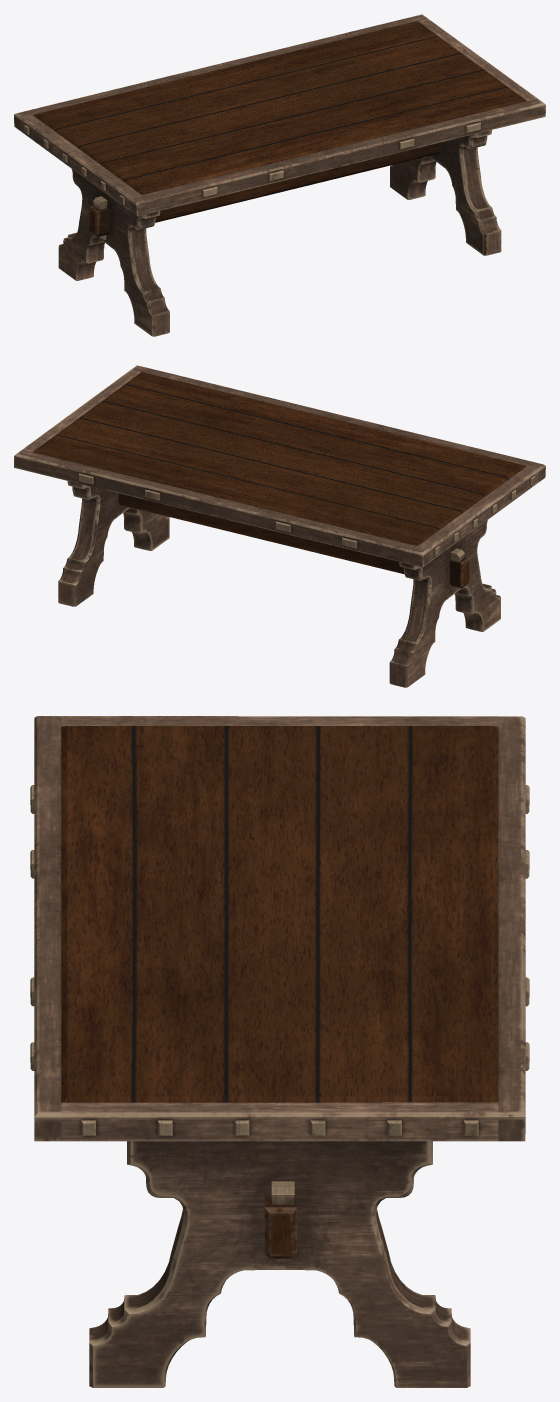
3 renders of one model, top to bottom at view 1: azimuth 30°, elevation 25°; view 2: azimuth 150°, elevation 25°; view 3: azimuth 270°, elevation 25°, orthographic. The views are drawn at different scales.
Visible parts, largest first — view 1: Table; view 2: Table; view 3: Table.
Part boxes in pixels (bbox=[...]): Table: bbox=[14, 14, 545, 336]; Table: bbox=[14, 365, 545, 687]; Table: bbox=[30, 716, 529, 1387].
Size of the model in its own units: 249 by 88.23 by 130.
Materials: 1 (1 with a texture image).
